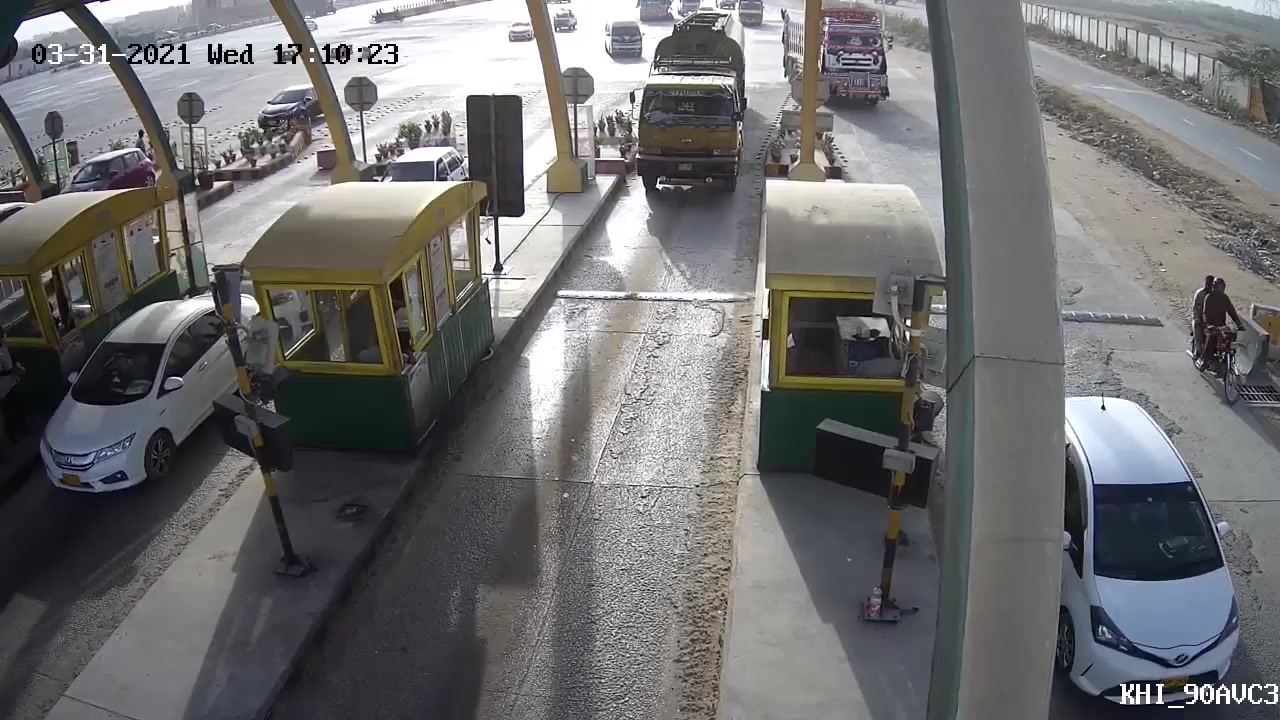F5: (626, 36, 747, 204)
